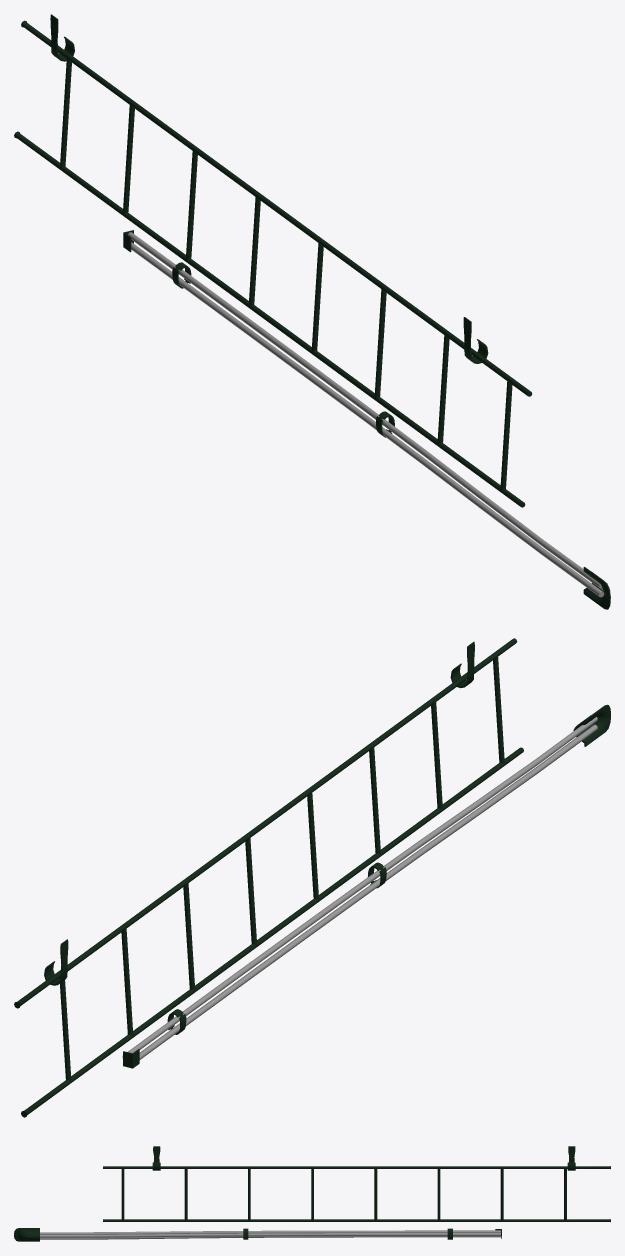
The model's file is obves2.FBX.
3 views of the same model, one above another, from view 1: azimuth 30°, elevation 25°; view 2: azimuth 150°, elevation 25°; view 3: azimuth 270°, elevation 25° (orthographic). The views are drawn at different scales.
Visible parts, largest first — view 1: Plane002, Cylinder085, Cylinder255; view 2: Plane002, Cylinder085, Cylinder255, Box216; view 3: Plane002, Cylinder256, Cylinder255, Cylinder085, Box216, Box231, Box214.
Part boxes in pixels (x1,y1,x2,y2): Plane002: (14, 20, 532, 507); Cylinder085: (131, 242, 604, 597); Cylinder255: (128, 232, 602, 588); Plane002: (14, 638, 523, 1117); Cylinder085: (139, 724, 597, 1059); Cylinder255: (128, 717, 597, 1053); Box216: (573, 704, 610, 746); Plane002: (103, 1166, 610, 1221); Cylinder256: (40, 1233, 500, 1237); Cylinder255: (40, 1230, 500, 1234); Cylinder085: (40, 1236, 500, 1239); Box216: (14, 1228, 39, 1241); Box231: (152, 1146, 160, 1170); Box214: (567, 1146, 575, 1170).
Bounding box in the file's own units: 51.32 × 513 × 2919.
